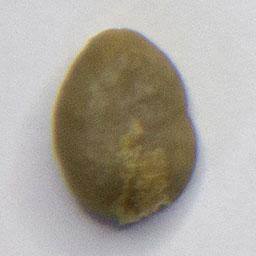premium: (48, 25, 201, 231)
